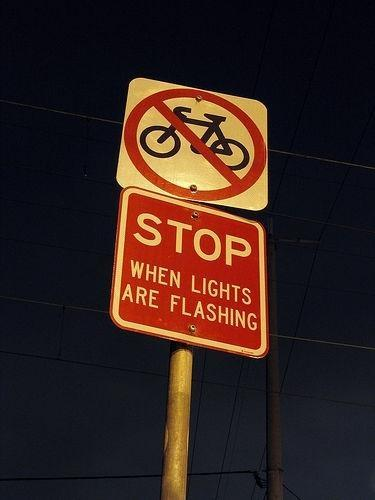bicycle: (140, 103, 250, 170)
